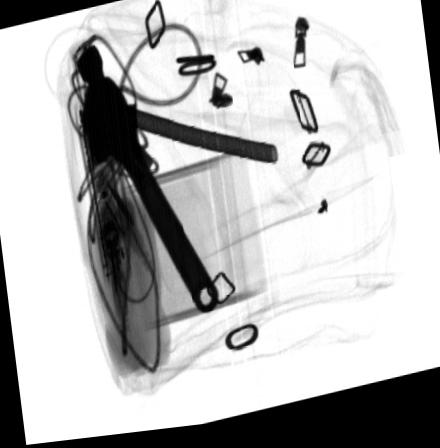Hammer: (75, 48, 278, 172)
Wrench: (80, 105, 217, 320)
